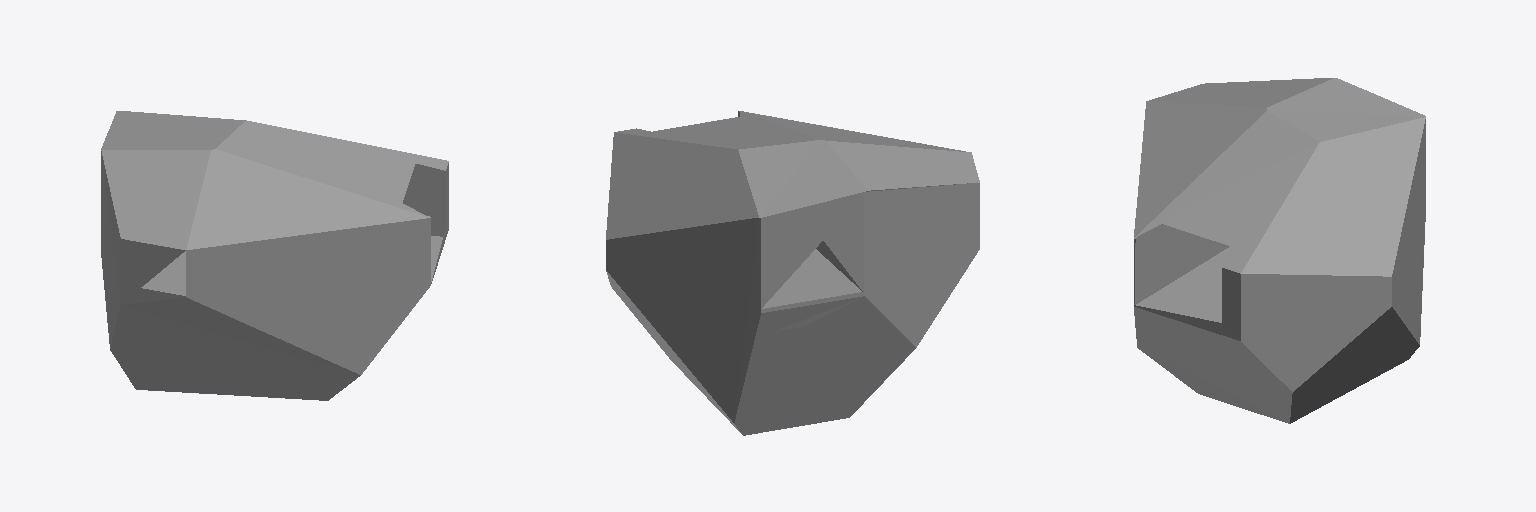
Rendered from luis1.obj.
3 renders of one model, left to right at view 1: azimuth 30°, elevation 25°; view 2: azimuth 150°, elevation 25°; view 3: azimuth 270°, elevation 25°, orthographic.
Visible parts, largest first — view 1: casa_Plane; view 2: casa_Plane; view 3: casa_Plane.
Boxes of the visible parts, x1=… form: casa_Plane: x1=101, y1=111, x2=448, y2=400; casa_Plane: x1=606, y1=111, x2=979, y2=435; casa_Plane: x1=1134, y1=78, x2=1425, y2=423.
Bounding box in the file's own units: 2.02 × 1.37 × 1.47.